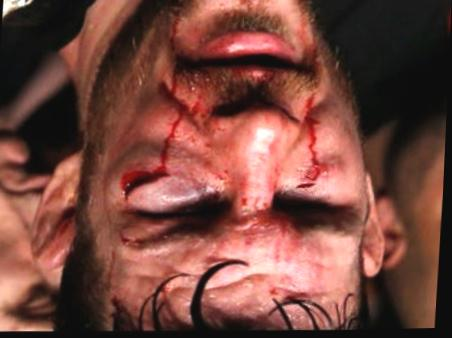Fire: (117, 0, 328, 247)
